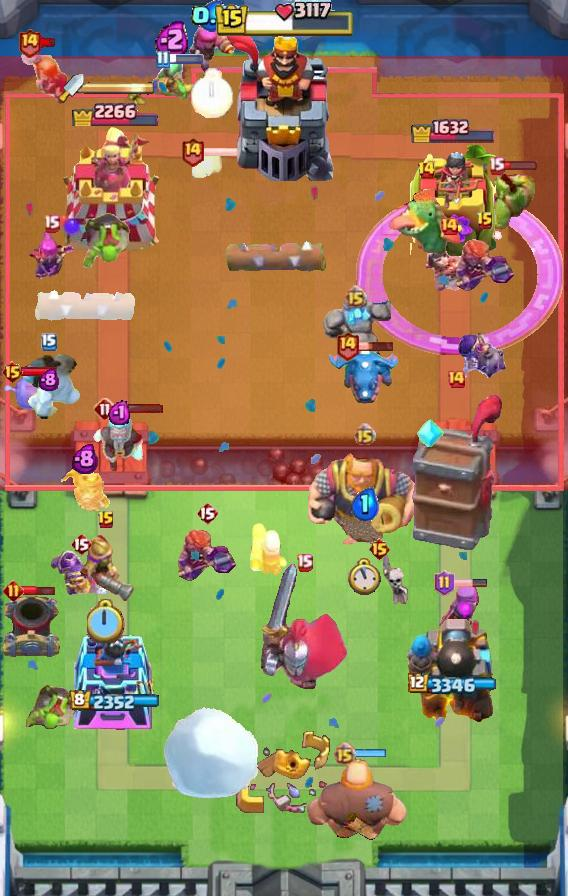archer-evolution: (26, 230, 76, 286)
bar: (114, 403, 164, 414), (21, 584, 56, 597), (358, 340, 395, 352), (202, 146, 239, 158), (21, 366, 58, 377), (502, 160, 538, 171), (167, 54, 205, 64), (354, 748, 388, 759), (452, 578, 488, 588), (40, 37, 57, 48)
bar-level: (335, 330, 360, 361), (180, 136, 205, 167), (17, 27, 42, 58), (93, 397, 117, 421), (368, 537, 391, 561), (1, 360, 24, 384), (434, 570, 455, 596), (333, 742, 356, 765), (353, 423, 376, 446), (344, 285, 367, 308), (70, 532, 92, 556), (196, 501, 218, 525), (3, 580, 24, 601), (446, 369, 466, 389), (439, 216, 459, 236), (417, 160, 436, 180), (97, 510, 115, 530), (476, 211, 494, 231), (296, 553, 313, 572), (43, 214, 60, 233), (488, 156, 505, 175), (41, 333, 57, 351), (155, 50, 170, 69)
bomber-evolution: (456, 332, 510, 382)
cannoneer-tower: (406, 611, 500, 731)
clock: (191, 68, 234, 118), (87, 599, 125, 643), (348, 558, 381, 596)
dagger-duchess-tower: (55, 126, 173, 256)
dagger-duchess-tower-bar: (84, 81, 156, 95)
electro-dragon: (326, 344, 398, 406)
elixir: (155, 19, 191, 59), (191, 0, 233, 32), (350, 487, 379, 521), (72, 443, 98, 474), (108, 399, 130, 425), (39, 368, 59, 391)
firecracker: (188, 17, 236, 79), (248, 520, 290, 578)
goblin-ball: (82, 210, 132, 270), (22, 682, 80, 730)
goblin-brawler: (481, 170, 537, 230)
golemite: (319, 299, 391, 369)
ice-spirit-evolution-symbol: (416, 416, 444, 450)
ice-wizard: (90, 407, 148, 475)
king-tower: (223, 31, 345, 181)
king-tower-bar: (213, 0, 355, 40)
knight-evolution: (50, 550, 112, 597)
lava-pup: (189, 149, 225, 181)
little-prince: (59, 465, 111, 520)
mortar: (0, 593, 62, 661)
mother-witch: (435, 582, 485, 652)
musketeer: (77, 533, 135, 603)
princess: (423, 241, 475, 293)
queen-tower: (410, 145, 496, 256), (73, 623, 155, 731)
skeleton: (382, 553, 410, 605)
spear-goblin: (148, 57, 198, 101)
the-log: (32, 289, 136, 323), (225, 240, 329, 274)
tower-bar: (69, 96, 159, 126), (410, 116, 497, 143), (69, 690, 160, 713), (408, 673, 499, 696)
valkyrie: (19, 46, 73, 106)
valkyrie-evolution: (175, 526, 239, 584), (453, 236, 517, 294)
wall-breaker: (0, 377, 50, 419)
